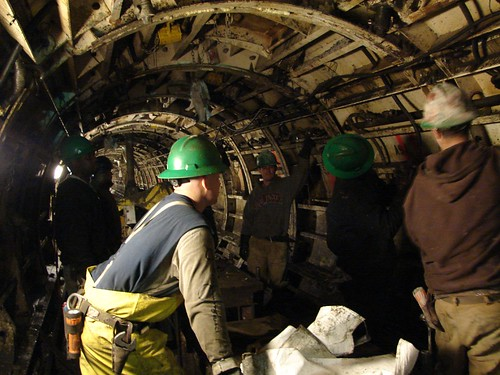person hardhat: (75, 130, 245, 373), (413, 82, 500, 368), (318, 129, 416, 333), (55, 135, 122, 299), (236, 141, 309, 279), (95, 150, 129, 225)
